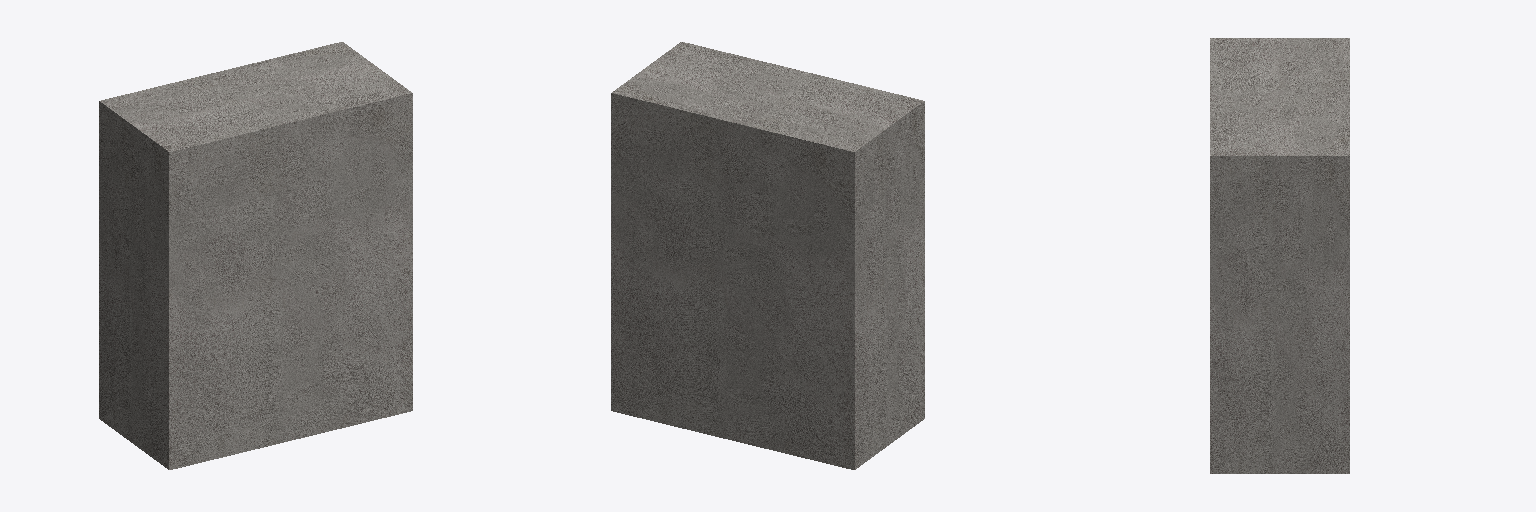
The picture shows the model from 3 angles: view 1: azimuth 30°, elevation 25°; view 2: azimuth 150°, elevation 25°; view 3: azimuth 270°, elevation 25°; orthographic projection.
Parts seen in each view (by area): view 1: 2x1x2,5; view 2: 2x1x2,5; view 3: 2x1x2,5.
Boxes of the visible parts, x1,y1,x2,y2 form: 2x1x2,5: [99, 42, 412, 469]; 2x1x2,5: [611, 42, 924, 469]; 2x1x2,5: [1210, 38, 1349, 473].
Size of the model in its own units: 2 by 2.5 by 1.
Materials: 1 (1 with a texture image).